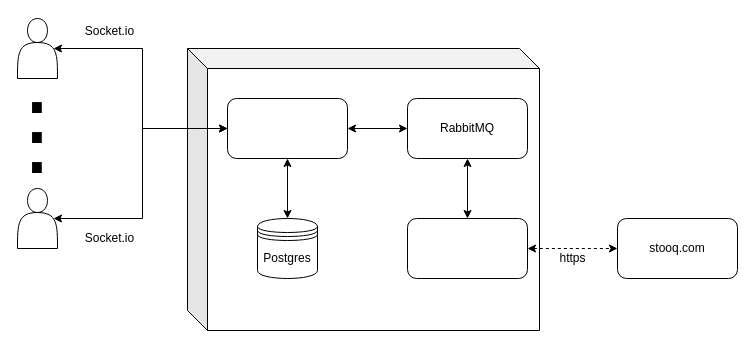
Image size: 755x348. Some labels were removed from this diagram. The shapes that lost their labels are listed below. From the top down, each one's centre as x and y in pixels, then its label:
At point (287, 128): "Backend - Python3 - Flask - Socke.io".
At point (467, 248): "Bot - Python3".
